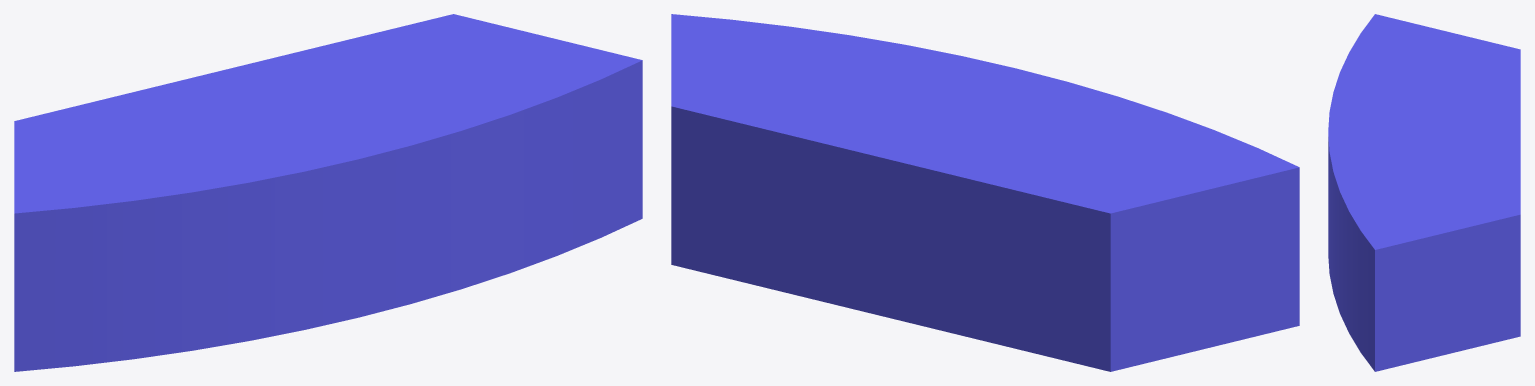
Rendered from azul_claro.obj.
The picture shows the model from 3 angles, left to right: view 1: azimuth 30°, elevation 25°; view 2: azimuth 150°, elevation 25°; view 3: azimuth 270°, elevation 25°; orthographic projection. The views are drawn at different scales.
Parts seen in each view (by area): view 1: Mesh1 Group1 Model; view 2: Mesh1 Group1 Model; view 3: Mesh1 Group1 Model.
Part boxes in pixels (left/top/right/bottom): Mesh1 Group1 Model: left=14, top=14, right=642, bottom=371; Mesh1 Group1 Model: left=671, top=14, right=1299, bottom=371; Mesh1 Group1 Model: left=1328, top=14, right=1520, bottom=371.
Bounding box in the file's own units: 85.1 × 20.5 × 29.34.
